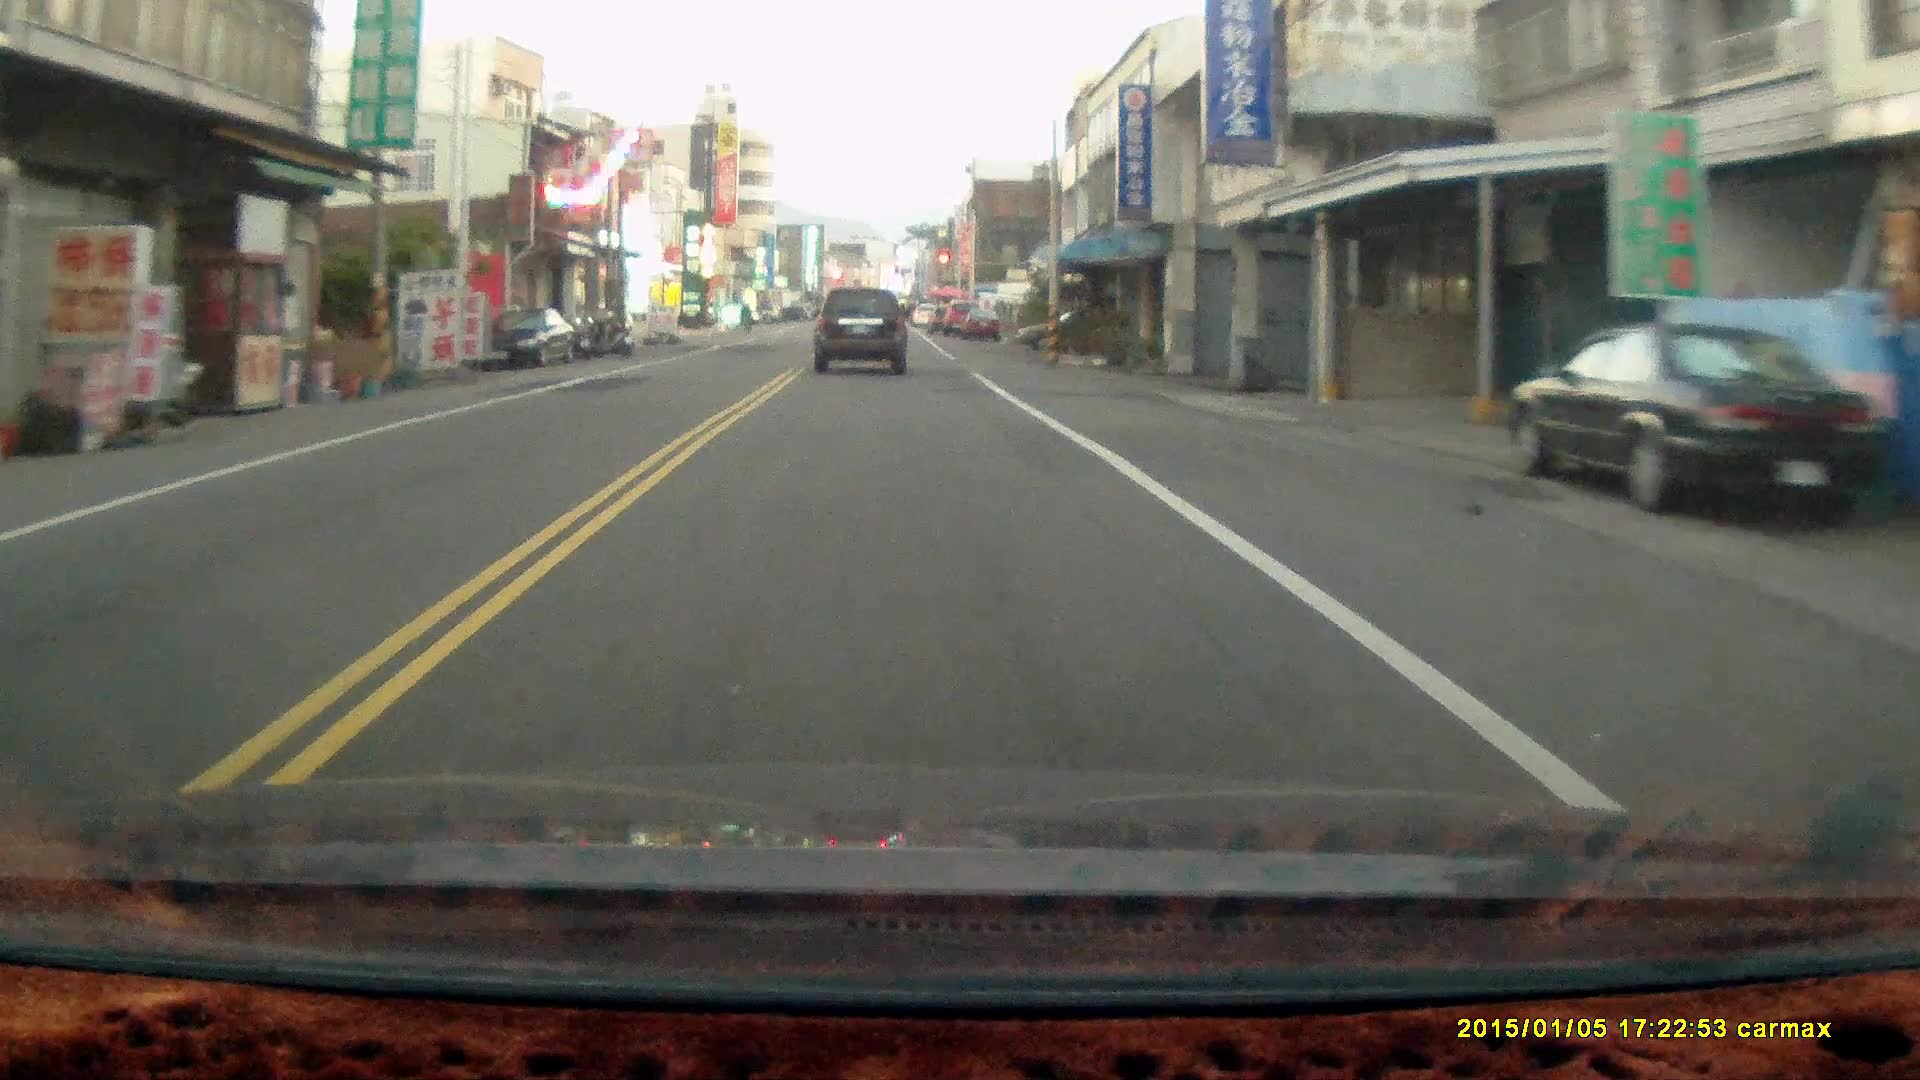vehicle: (1506, 316, 1898, 526), (814, 286, 909, 377)
